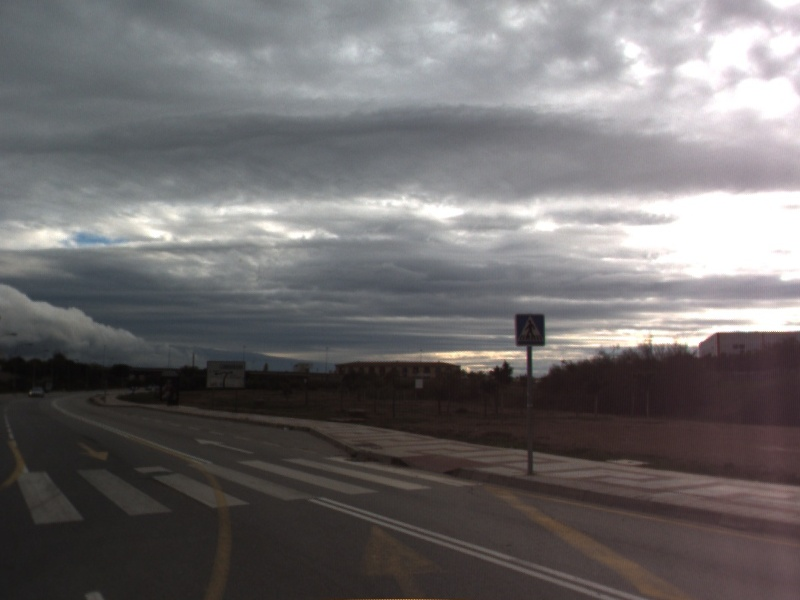STRAIGHT: (192, 436, 256, 456)
